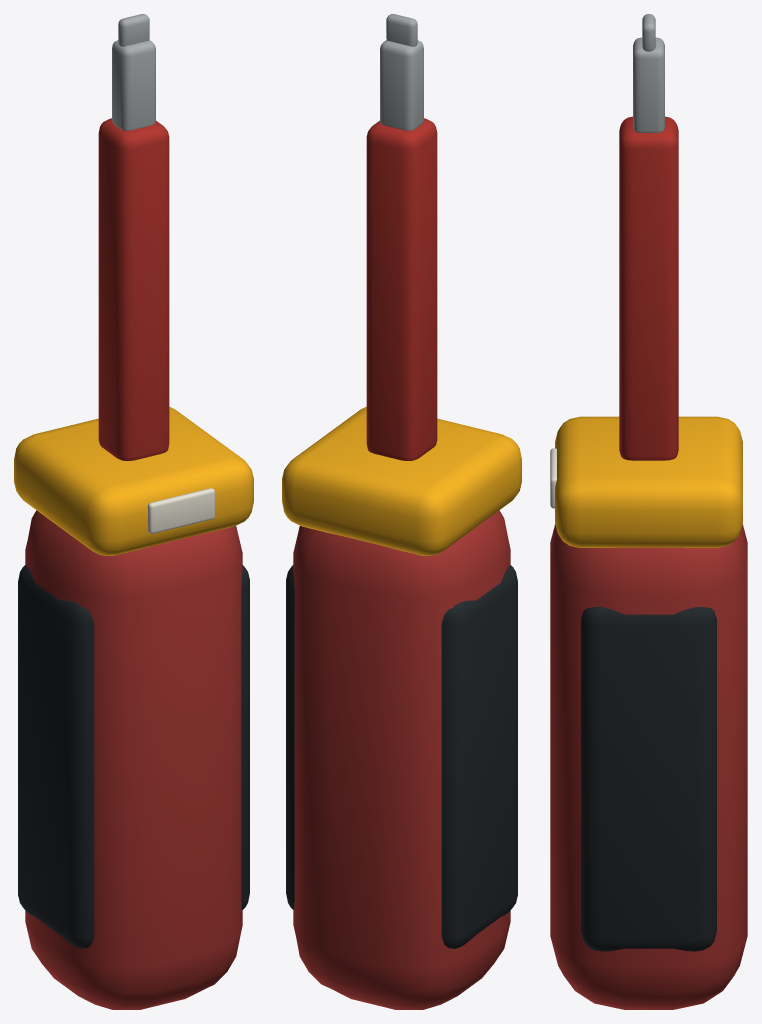
Rendered from torquedriver_default.glb.
3 views of the same model, side by side, from view 1: azimuth 30°, elevation 25°; view 2: azimuth 150°, elevation 25°; view 3: azimuth 270°, elevation 25° (orthographic).
Visible parts, largest first — view 1: node-4, node-3 · Original material.001, node-11, node-8, node-10 · Original material.005, node-9; view 2: node-4, node-3 · Original material.001, node-11, node-8, node-10 · Original material.005; view 3: node-3 · Original material.001, node-4, node-8, node-11, node-10 · Original material.005.
Part boxes in pixels (x1,y1,x2,y2): node-4: (25, 510, 242, 1009); node-3 · Original material.001: (18, 565, 249, 948); node-11: (98, 118, 169, 460); node-8: (14, 406, 253, 555); node-10 · Original material.005: (112, 14, 155, 130); node-9: (147, 488, 214, 533); node-4: (293, 510, 510, 1009); node-3 · Original material.001: (286, 565, 517, 948); node-11: (366, 118, 437, 460); node-8: (282, 406, 521, 555); node-10 · Original material.005: (380, 14, 423, 130); node-3 · Original material.001: (581, 607, 716, 951); node-4: (550, 524, 747, 1009); node-8: (555, 416, 742, 547); node-11: (619, 116, 678, 460); node-10 · Original material.005: (633, 14, 664, 132).
Bounding box in the file's own units: 0.234 × 1.21 × 0.223.
